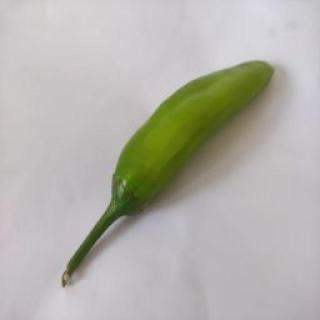Cabai Hijau: (55, 57, 281, 293)
